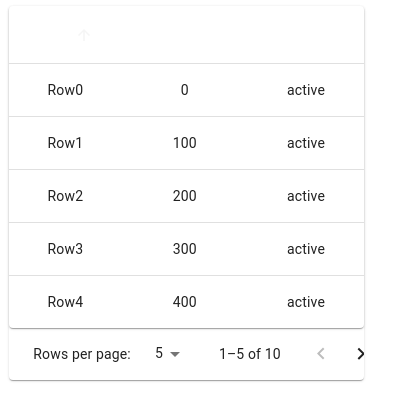
Test: SortableDataTable › handles page change
The width and height of the screenshot is (397, 399).
Click the button titled "Go to next page" at [361, 354], box [341,334,381,374]
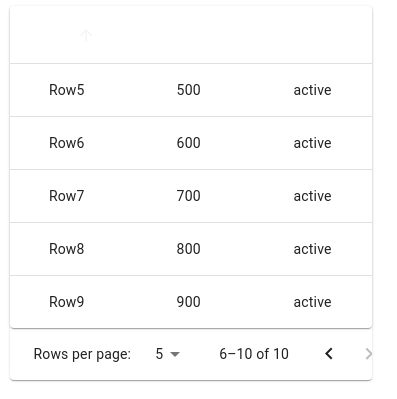
Result: the text "Row5" is shown at [10,64,124,116]
